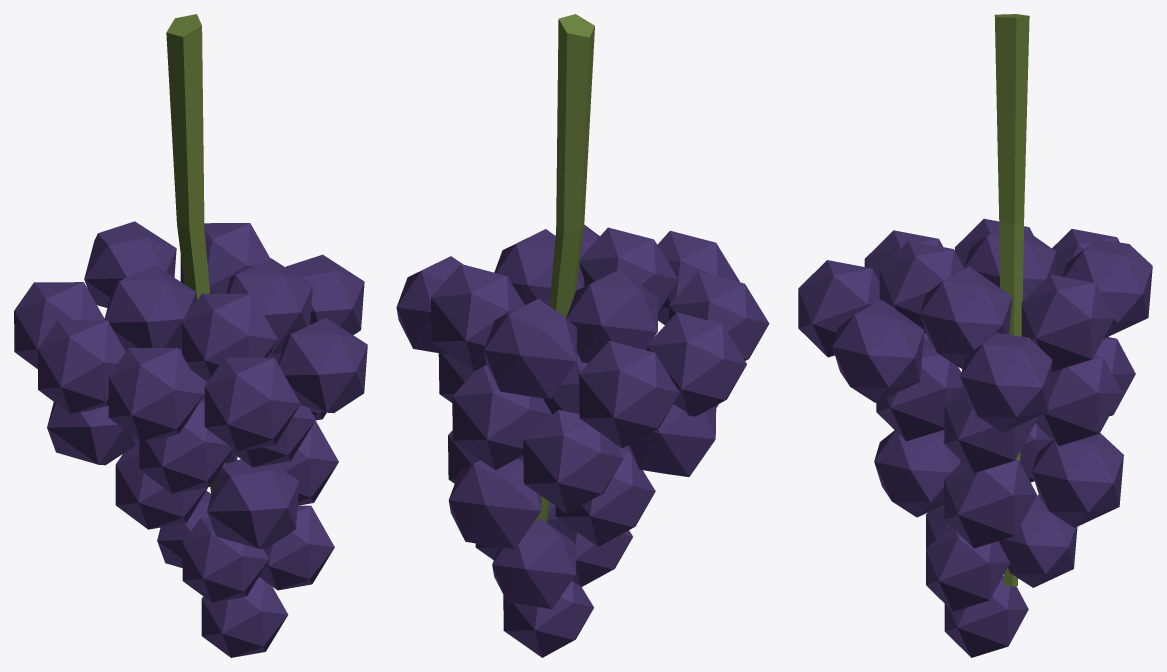
File: SM_Envr_Nature_Farm_Fruit_Grape_02.fbx
The picture shows the model from 3 angles, left to right: view 1: azimuth 30°, elevation 25°; view 2: azimuth 150°, elevation 25°; view 3: azimuth 270°, elevation 25°; orthographic projection. The views are drawn at different scales.
Parts seen in each view (by area): view 1: SM_Envr_Nature_Farm_Fruit_Grape_02; view 2: SM_Envr_Nature_Farm_Fruit_Grape_02; view 3: SM_Envr_Nature_Farm_Fruit_Grape_02.
Part boxes in pixels (left/top/right/bottom): SM_Envr_Nature_Farm_Fruit_Grape_02: left=14, top=14, right=367, bottom=657; SM_Envr_Nature_Farm_Fruit_Grape_02: left=396, top=14, right=769, bottom=657; SM_Envr_Nature_Farm_Fruit_Grape_02: left=798, top=14, right=1152, bottom=657.
Size of the model in its own units: 12.27 by 23.3 by 12.1.
